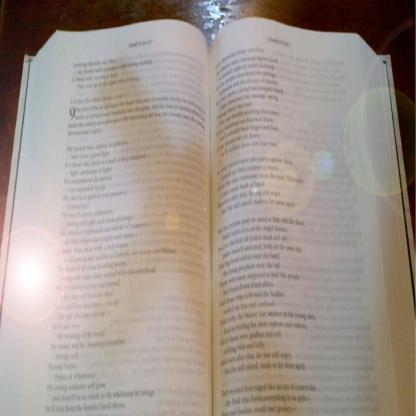book: (17, 20, 350, 401)
